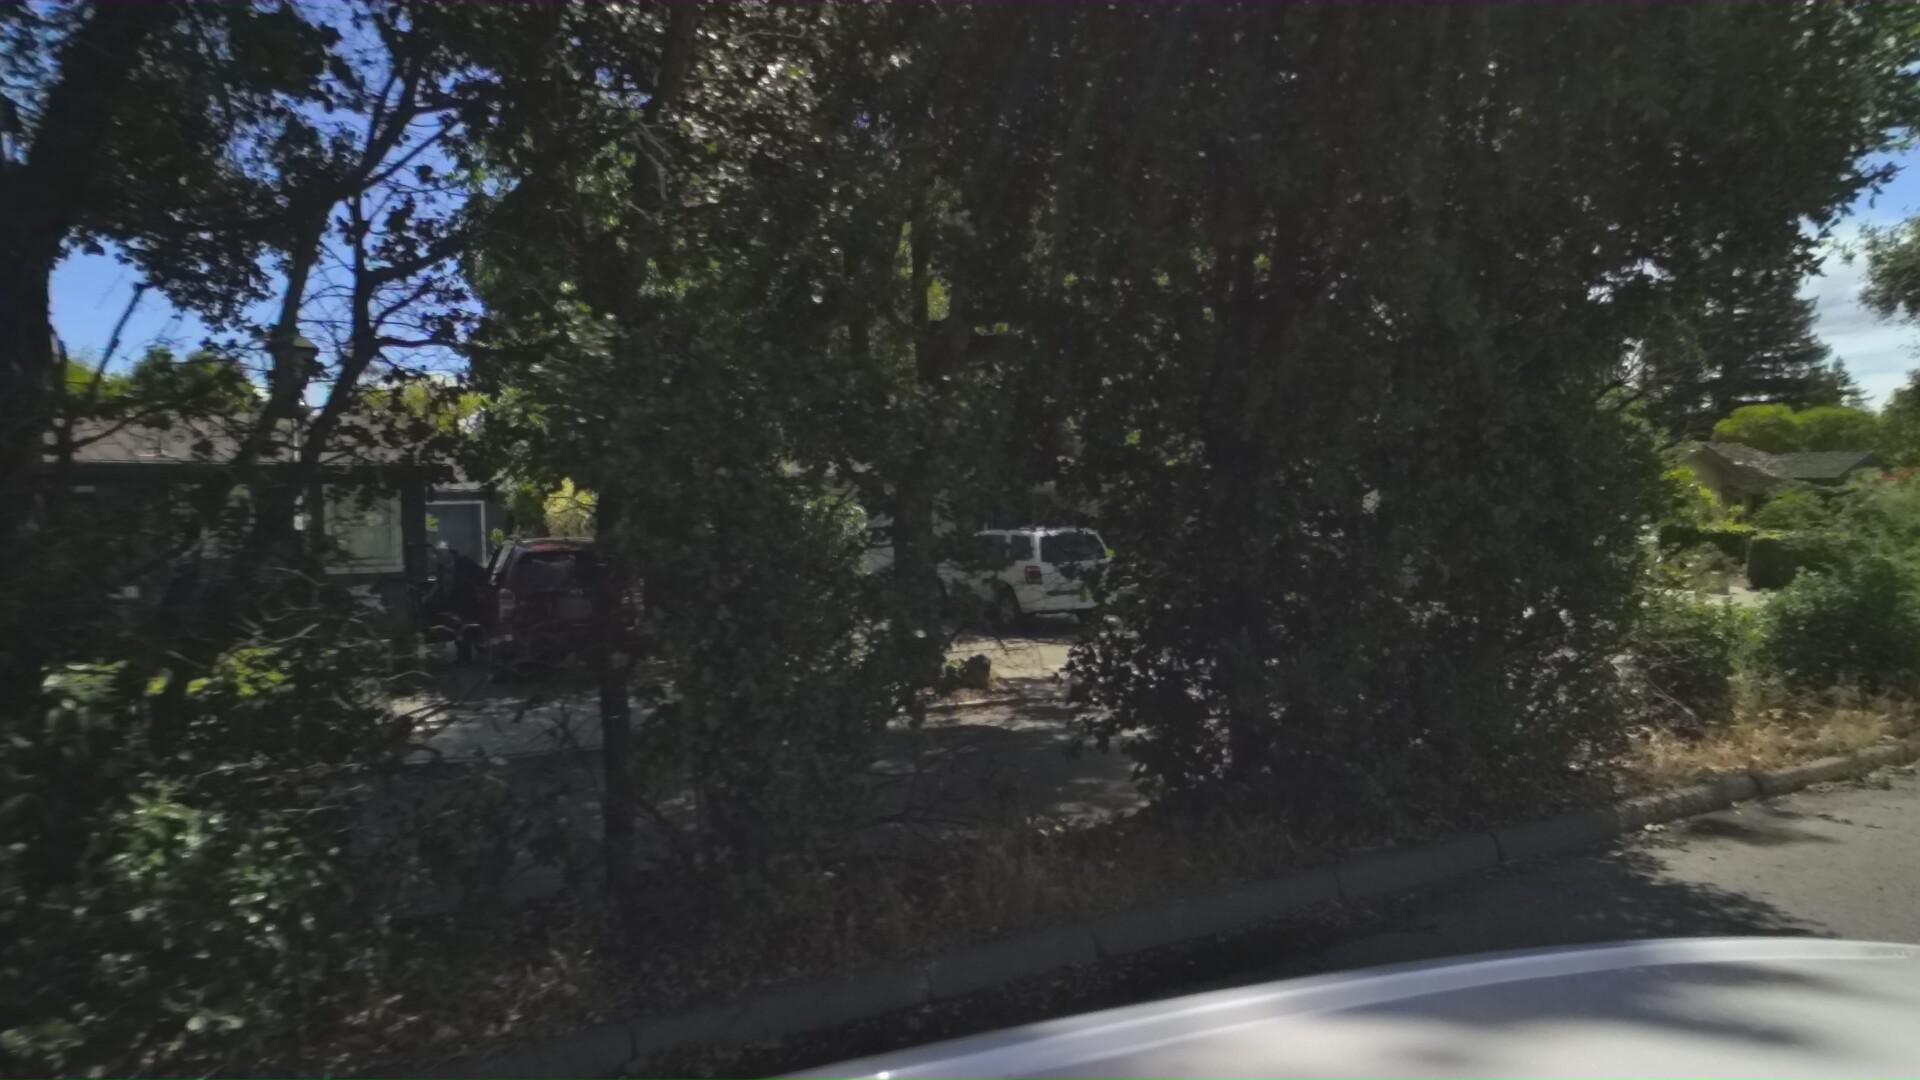car: (516, 516, 716, 694), (938, 510, 1162, 633)
